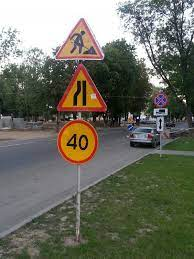1.18.6: (54, 63, 109, 112)
1.23: (56, 17, 105, 60)
